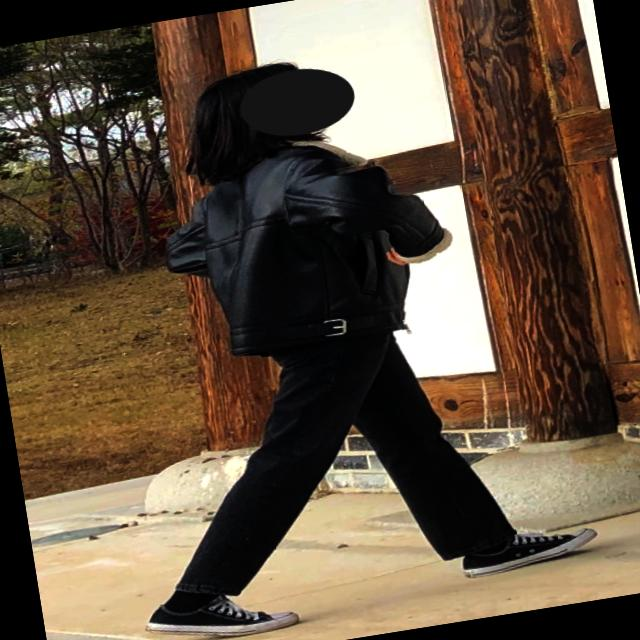denimpants: (137, 312, 527, 606)
jacket: (149, 123, 464, 371)
